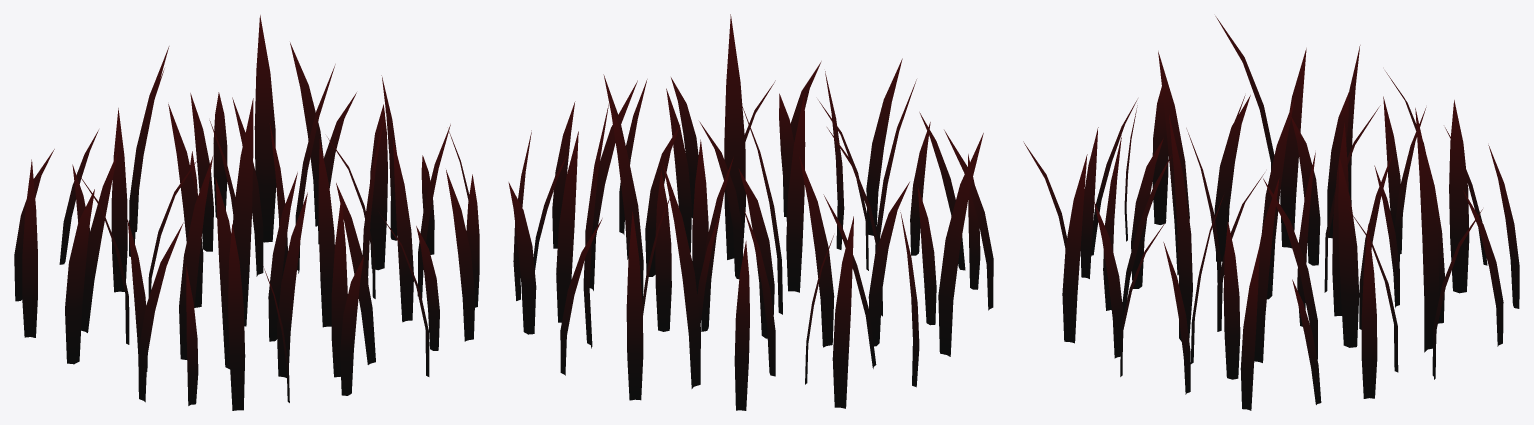
The model's file is Herbe1.fbx.
3 views of the same model, side by side, from view 1: azimuth 30°, elevation 25°; view 2: azimuth 150°, elevation 25°; view 3: azimuth 270°, elevation 25° (orthographic). The views are drawn at different scales.
Visible parts, largest first — view 1: Herbe1; view 2: Herbe1; view 3: Herbe1.
Boxes of the visible parts, <box> form: Herbe1: <box>14,15,479,410</box>; Herbe1: <box>508,14,993,410</box>; Herbe1: <box>1023,16,1519,410</box>.
Size of the model in its own units: 253 by 141 by 266.
